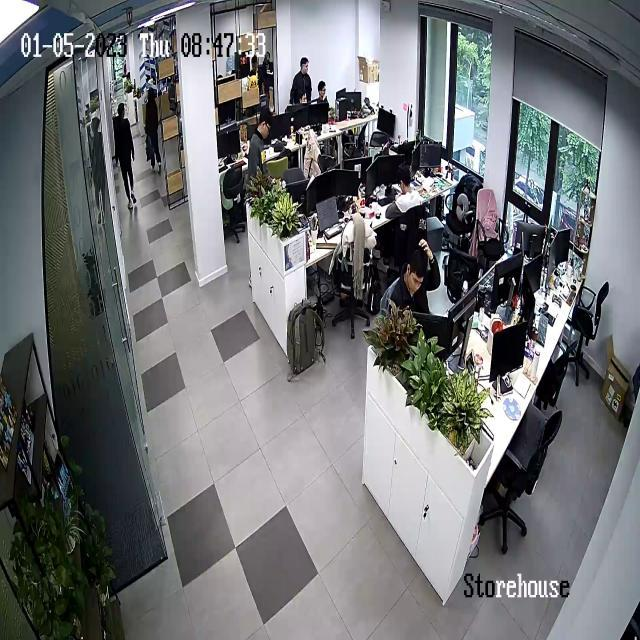person: (380, 247, 435, 316), (113, 102, 138, 212), (245, 108, 273, 189), (387, 163, 425, 217), (289, 56, 313, 108), (311, 80, 331, 124)
